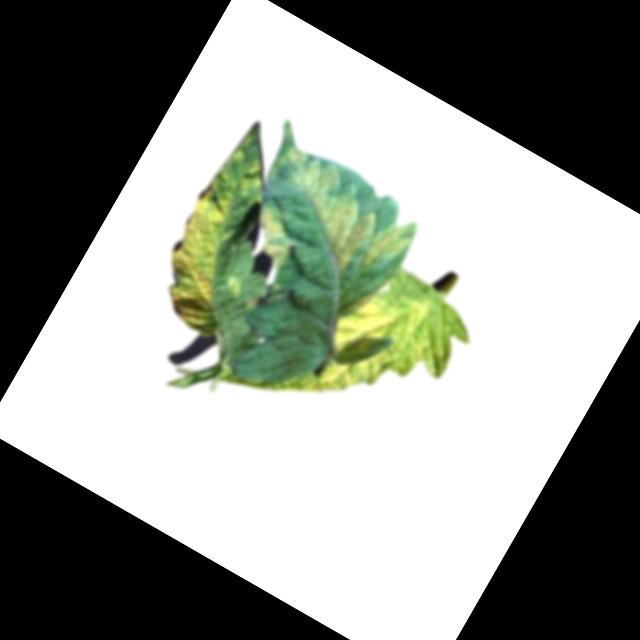Leaf_Mold: (140, 112, 315, 337), (294, 265, 479, 458), (244, 136, 424, 290), (236, 202, 313, 280)
